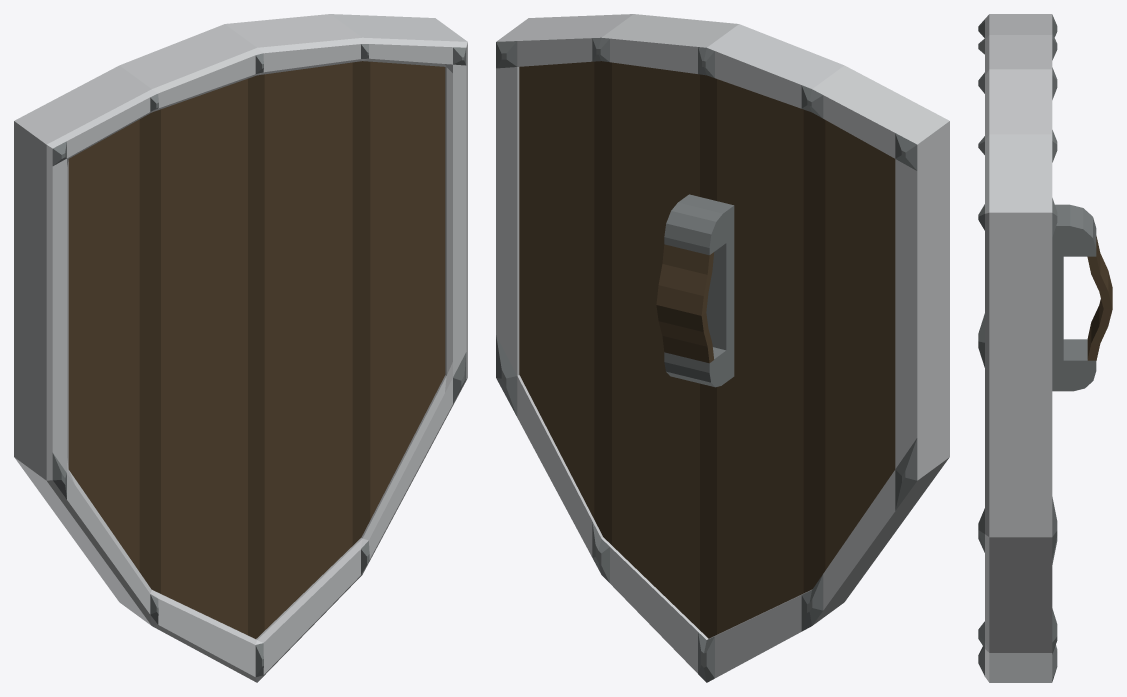
File: ShieldBetter.fbx
3 renders of one model, left to right at view 1: azimuth 30°, elevation 25°; view 2: azimuth 150°, elevation 25°; view 3: azimuth 270°, elevation 25°, orthographic. The views are drawn at different scales.
Parts seen in each view (by area): view 1: Shield; view 2: Shield; view 3: Shield.
Part boxes in pixels (x1,y1,x2,y2): Shield: [14, 14, 467, 682]; Shield: [496, 14, 949, 682]; Shield: [978, 14, 1112, 682].
Size of the model in its own units: 0.5664 by 0.8158 by 0.162.
